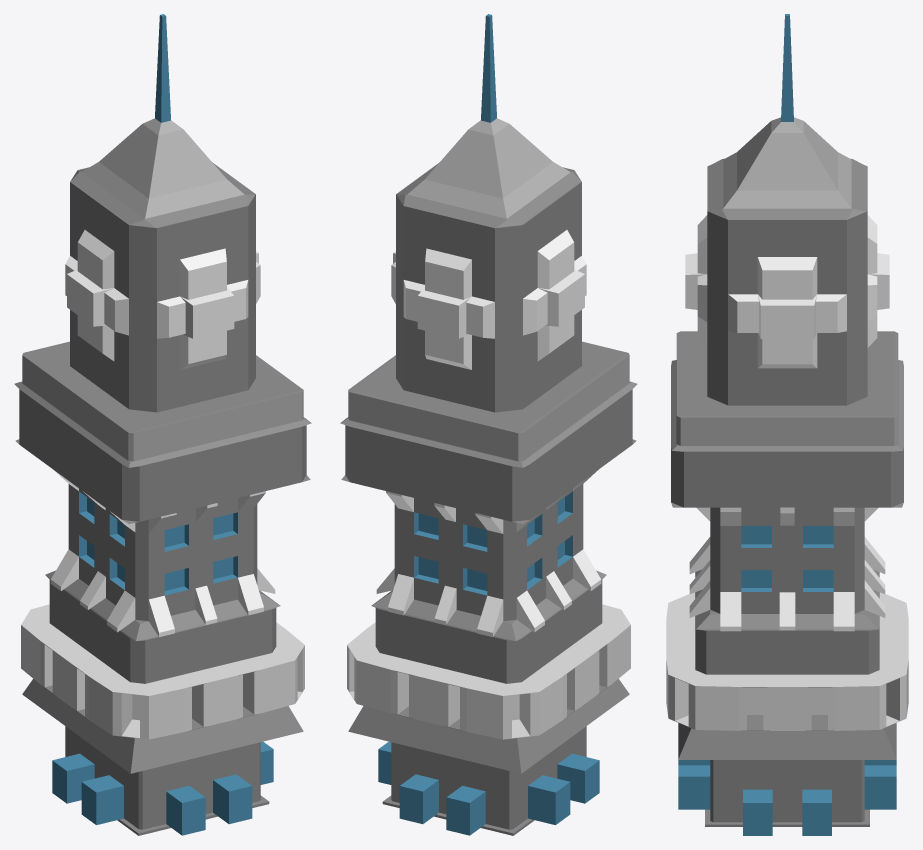
Rendered from scraper.fbx.
The picture shows the model from 3 angles, left to right: view 1: azimuth 30°, elevation 25°; view 2: azimuth 150°, elevation 25°; view 3: azimuth 270°, elevation 25°; orthographic projection.
Parts seen in each view (by area): view 1: Skyscraper; view 2: Skyscraper; view 3: Skyscraper.
Part boxes in pixels (box(x1,y1,x2,y2)): Skyscraper: box(14, 14, 311, 835); Skyscraper: box(340, 14, 637, 835); Skyscraper: box(666, 14, 908, 835).
Bounding box in the file's own units: 119 × 127 × 449.
